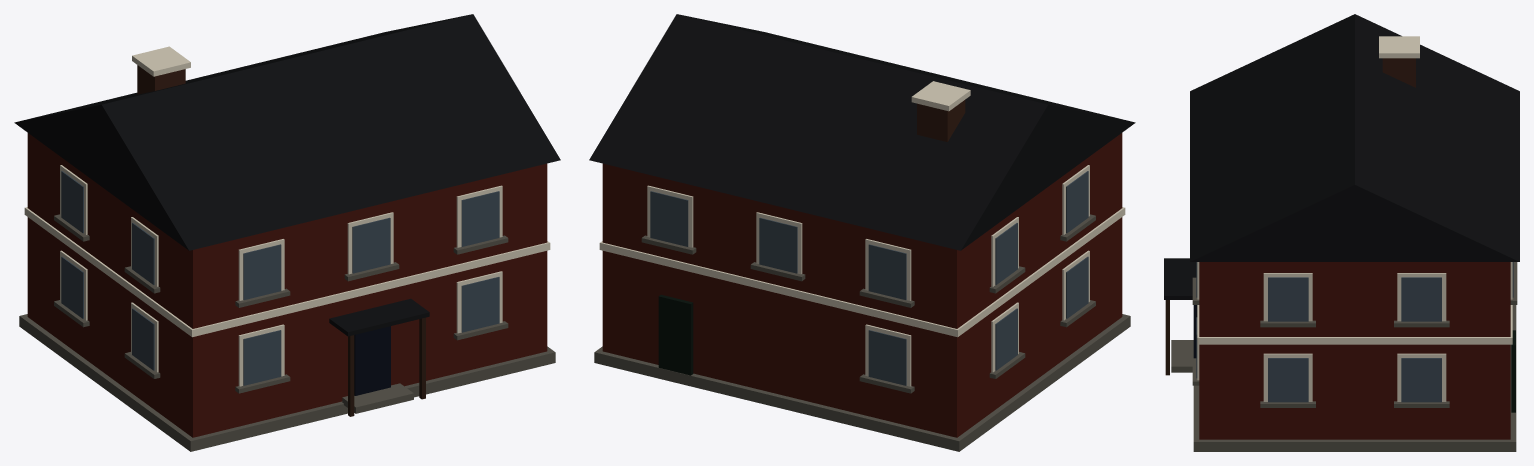
The model's file is building_house.glb.
3 views of the same model, side by side, from view 1: azimuth 30°, elevation 25°; view 2: azimuth 150°, elevation 25°; view 3: azimuth 270°, elevation 25° (orthographic). The views are drawn at different scales.
Visible parts, largest first — view 1: house; view 2: house; view 3: house.
Part boxes in pixels (bbox=[...]): house: bbox=[14, 14, 560, 451]; house: bbox=[589, 14, 1135, 451]; house: bbox=[1164, 14, 1519, 451].
Size of the model in its own units: 10.9 by 8.23 by 9.6.
2 materials, 1 textured.
